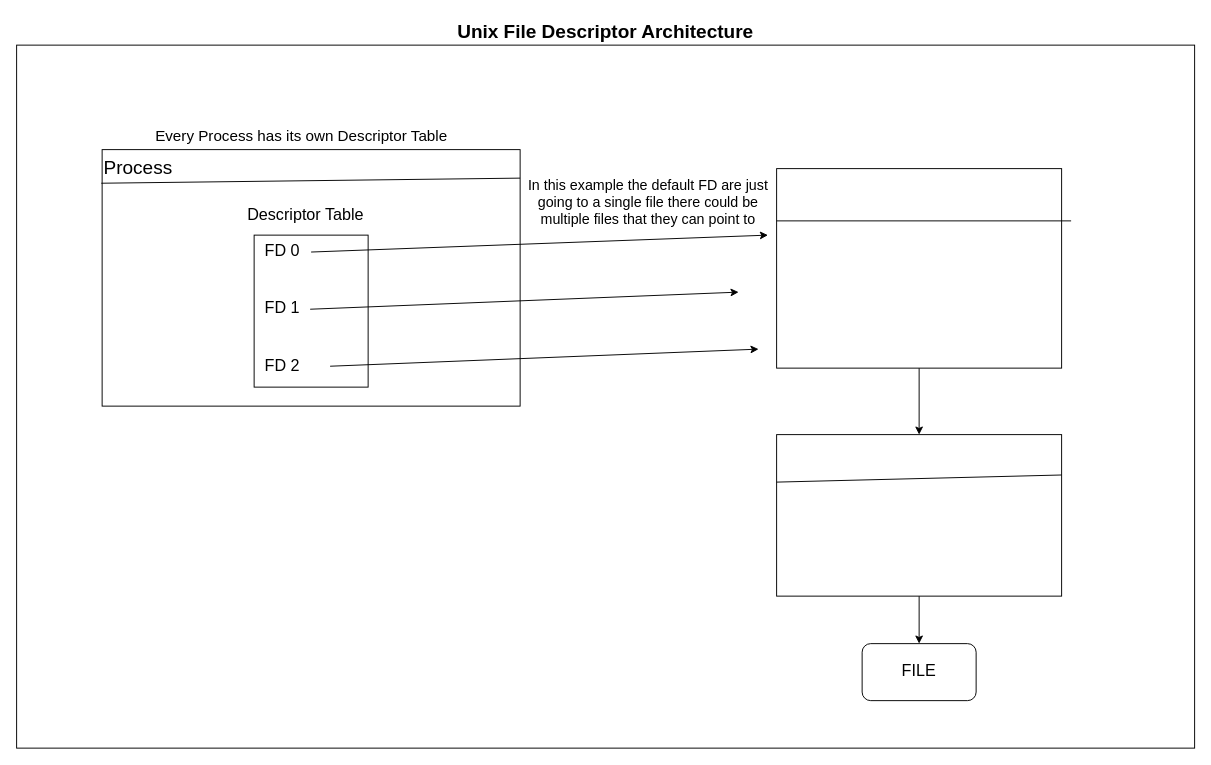
Some shapes in this 1211 by 765 pixel diagram are drawn without their labels. The box of each missing label's shape, as (x1, y1, x2, y2) in pixels:
Open File Table File Position Reference Count File Access Info: (776, 168, 1062, 368)
V-Node Table File Type File Size File Permission: (776, 434, 1062, 596)
